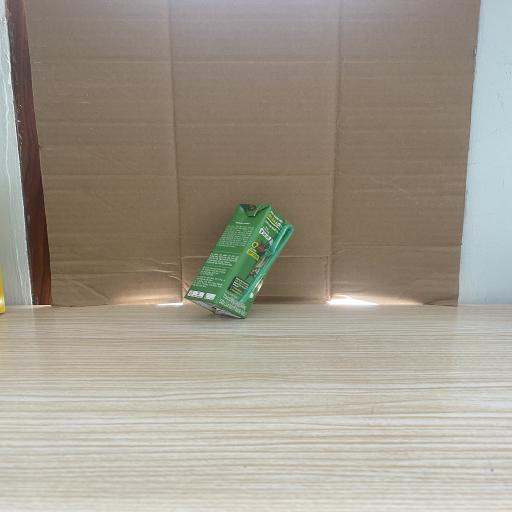milo: (184, 203, 294, 319)
